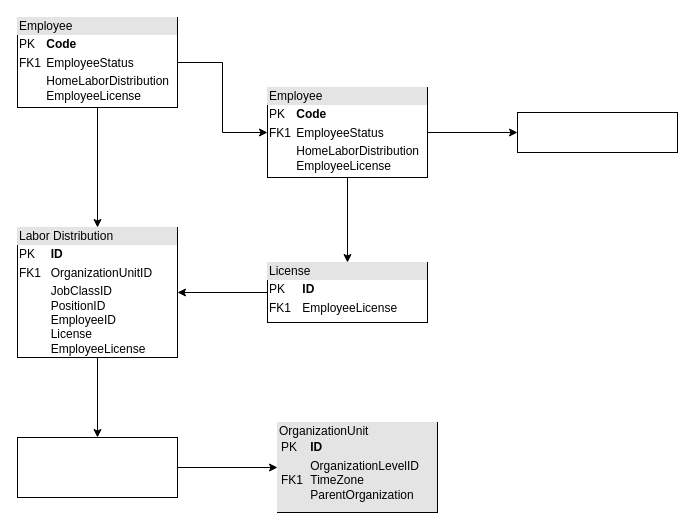
Some shapes in this 695 by 530 pixel diagram are drawn without their labels. Each missing label, with the centre of its shape:
"Badge PK ID" belongs at (597,132).
"OrganizationLevel PK ID FK1 OrganizationLevelID" belongs at (97,467).
